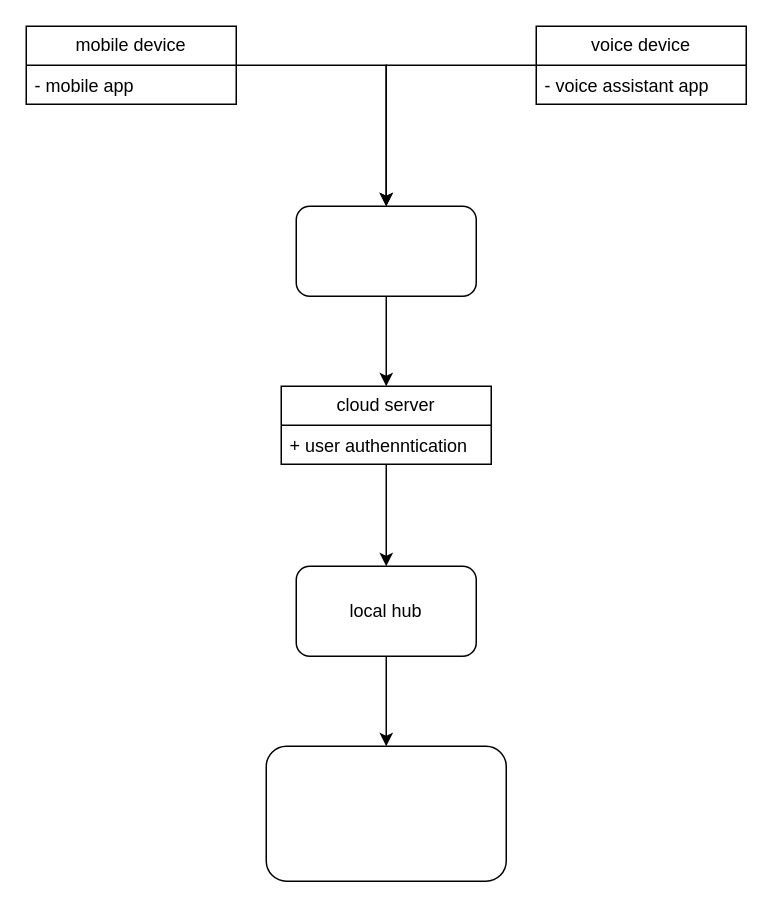
Image size: 773x908. Some labels were removed from this diagram. Each missing label, with the centre of its shape:
devices (lights, cameras, fan, thermostat, etc): [385,813]
internet connection: [385,250]
